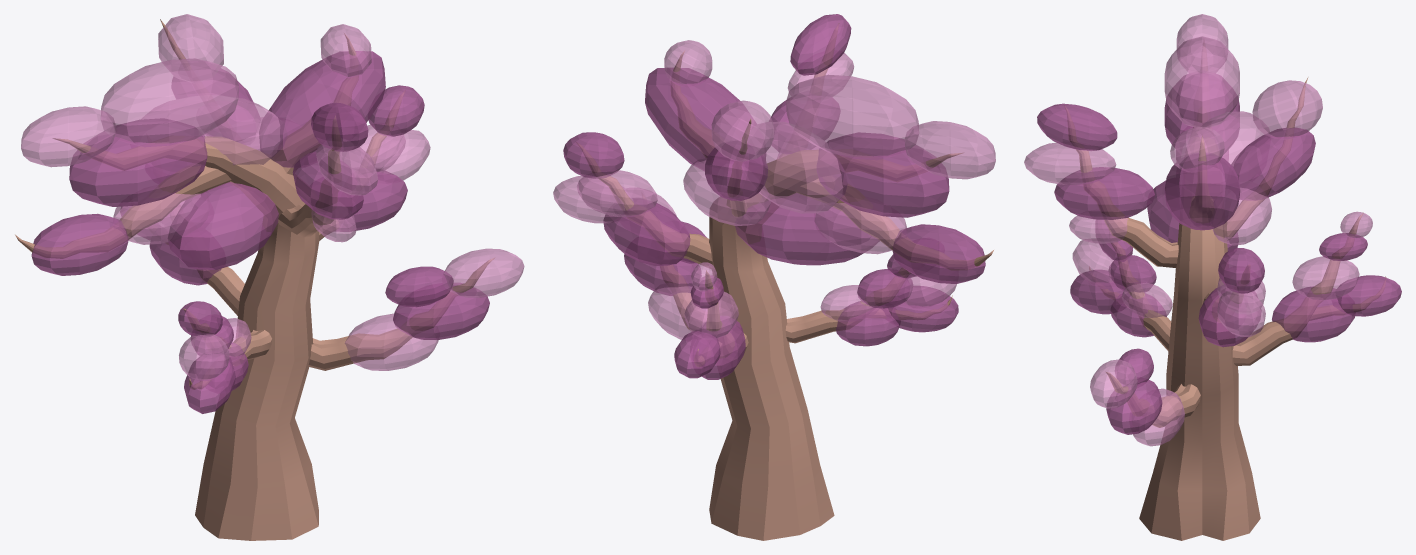
Rendered from Thin tree.fbx.
The picture shows the model from 3 angles, left to right: view 1: azimuth 30°, elevation 25°; view 2: azimuth 150°, elevation 25°; view 3: azimuth 270°, elevation 25°; orthographic projection. The views are drawn at different scales.
Parts seen in each view (by area): view 1: polySurface37; view 2: polySurface37; view 3: polySurface37.
Boxes of the visible parts, x1,y1,x2,y2 form: polySurface37: (15,14,524,540); polySurface37: (553,14,995,540); polySurface37: (1024,14,1401,540).
Bounding box in the file's own units: 18.73 × 18.65 × 14.81.
